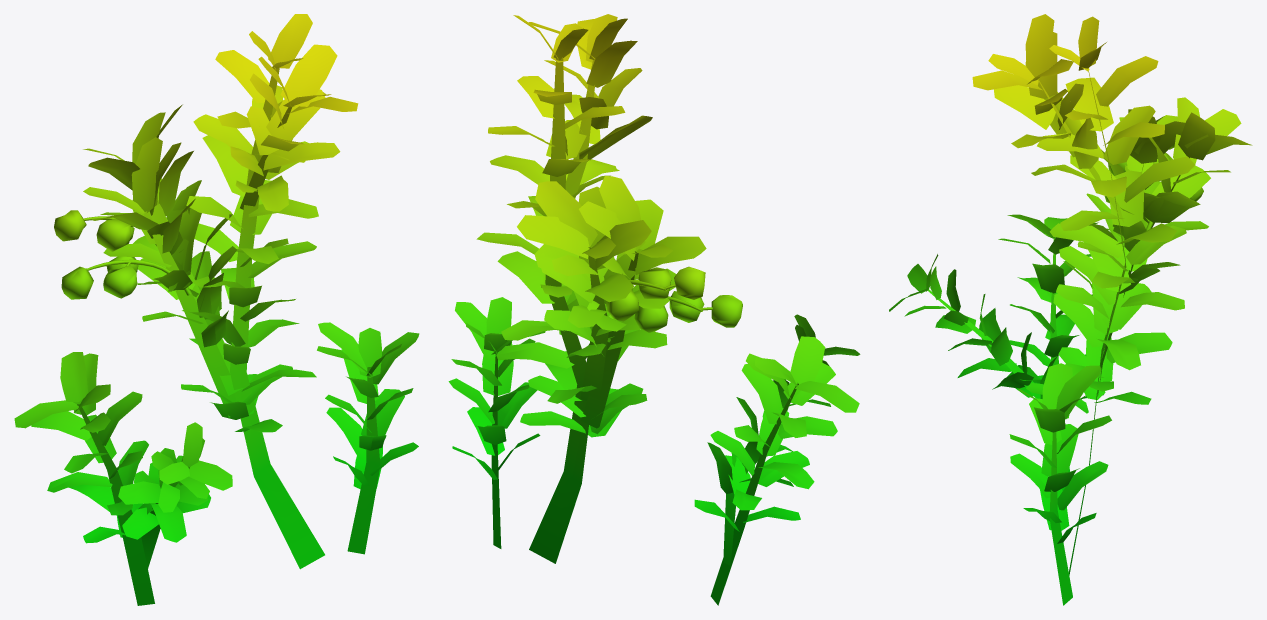
File: Lingonberry_LOD2_Var8.fbx
The picture shows the model from 3 angles, left to right: view 1: azimuth 30°, elevation 25°; view 2: azimuth 150°, elevation 25°; view 3: azimuth 270°, elevation 25°; orthographic projection. The views are drawn at different scales.
Parts seen in each view (by area): view 1: _adbz_Var8_LOD2; view 2: _adbz_Var8_LOD2; view 3: _adbz_Var8_LOD2.
Boxes of the visible parts, bbox=[...] form: _adbz_Var8_LOD2: bbox=[14, 14, 419, 605]; _adbz_Var8_LOD2: bbox=[448, 14, 860, 605]; _adbz_Var8_LOD2: bbox=[889, 14, 1252, 605].
Size of the model in its own units: 13.78 by 17.92 by 10.89.
